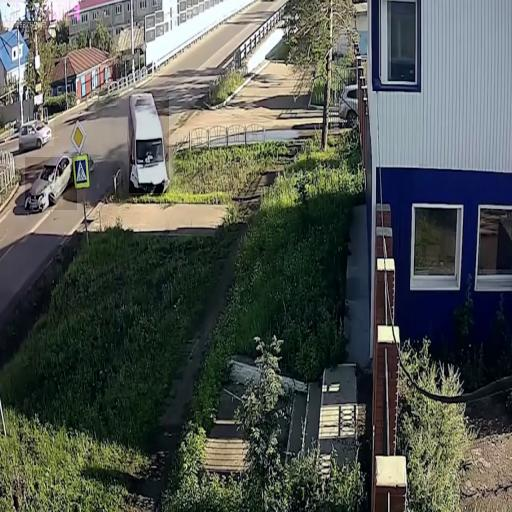小汽车: (129, 96, 169, 193), (25, 157, 77, 210), (18, 116, 54, 146)
